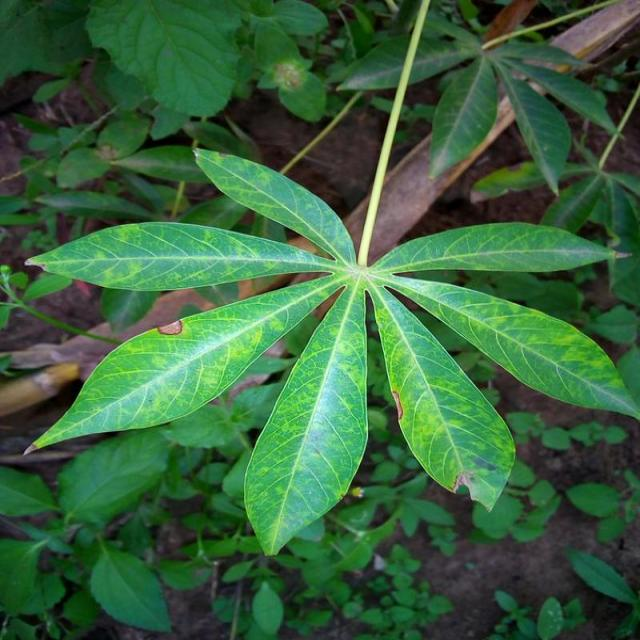cassava leaf: (23, 130, 637, 554), (22, 273, 346, 458), (242, 277, 369, 557), (367, 278, 516, 512), (24, 219, 339, 291)
